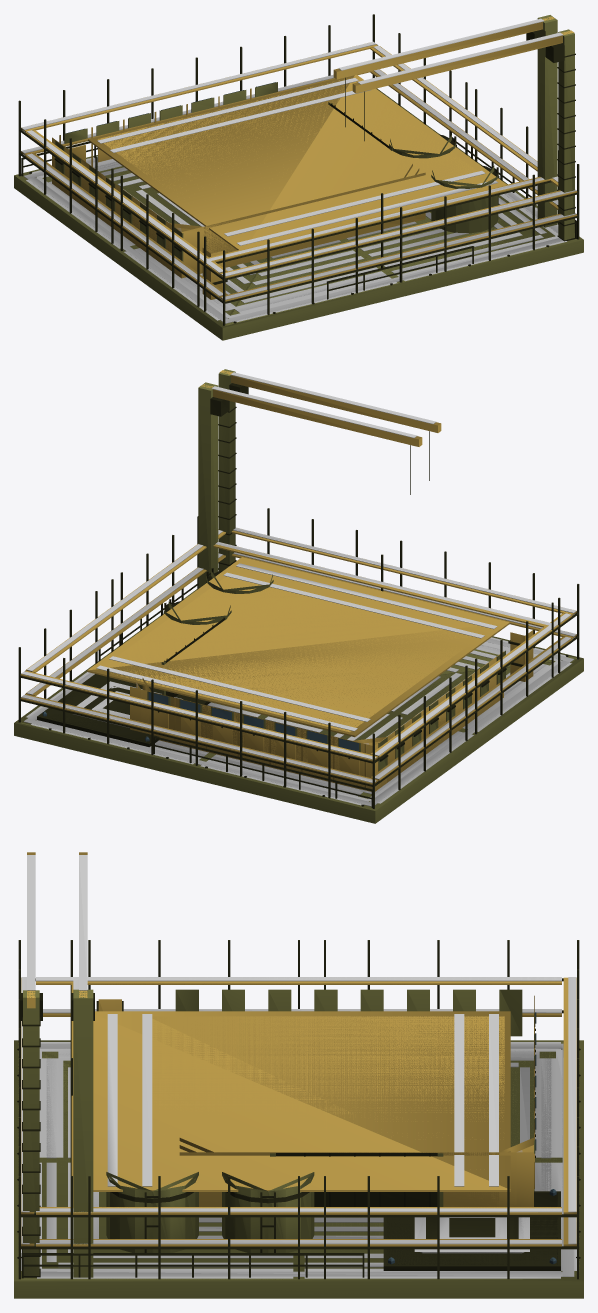
Rendered from meridian_construction_center_scaffolding.glb.
The picture shows the model from 3 angles, top to bottom: view 1: azimuth 30°, elevation 25°; view 2: azimuth 150°, elevation 25°; view 3: azimuth 270°, elevation 25°; orthographic projection. The views are drawn at different scales.
Parts seen in each view (by area): view 1: body (×3); view 2: body (×3); view 3: body (×3).
Boxes of the visible parts, x1,y1,x2,y2 form: body (×3): [14, 14, 583, 340]; body (×3): [14, 369, 583, 823]; body (×3): [14, 852, 583, 1298].
Bounding box in the file's own units: 14.8 × 8.54 × 14.8.
